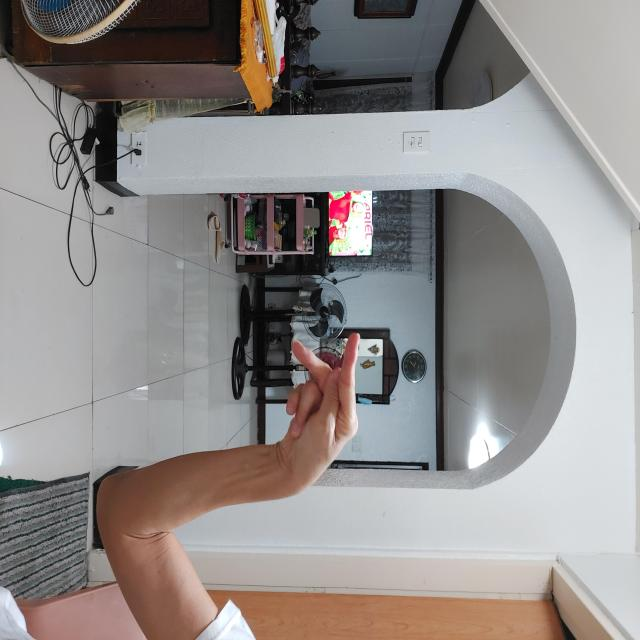P: (332, 279, 499, 359)
